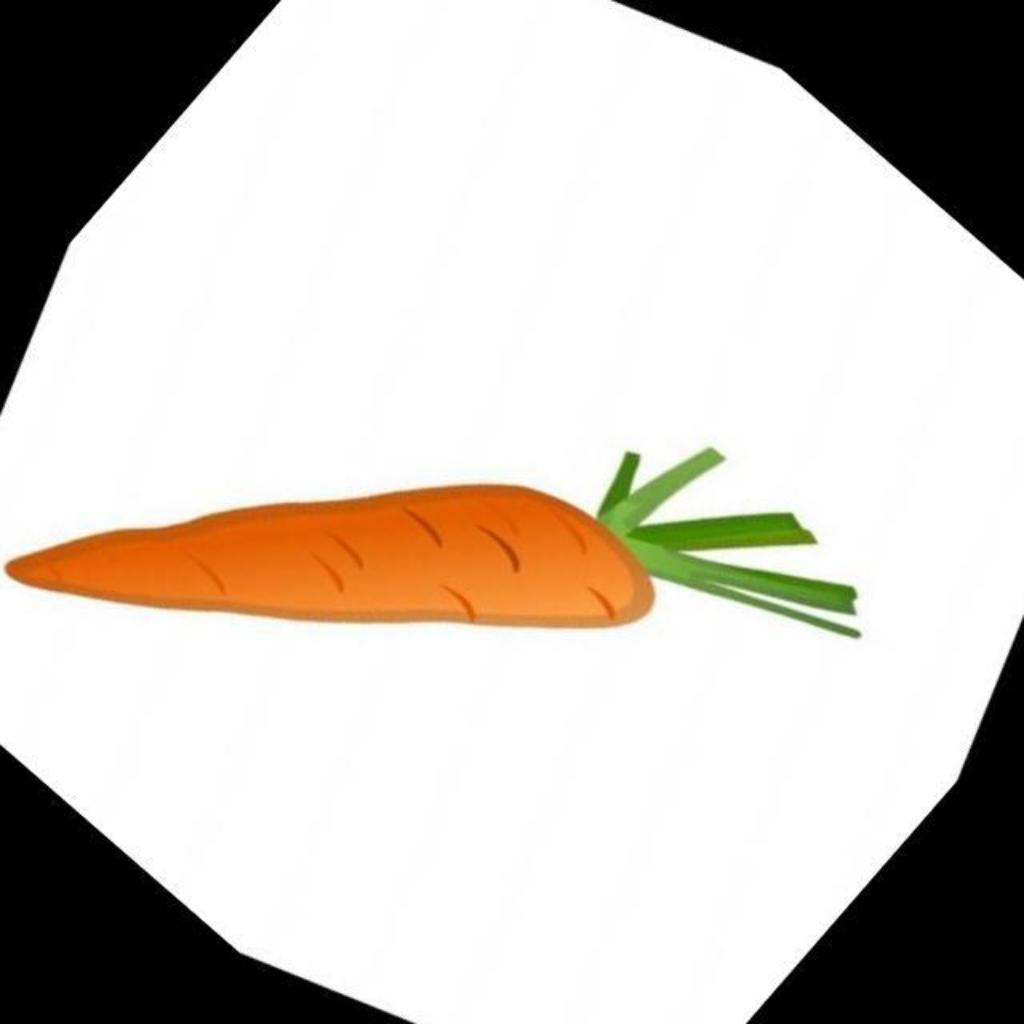carrot: (6, 448, 860, 637)
